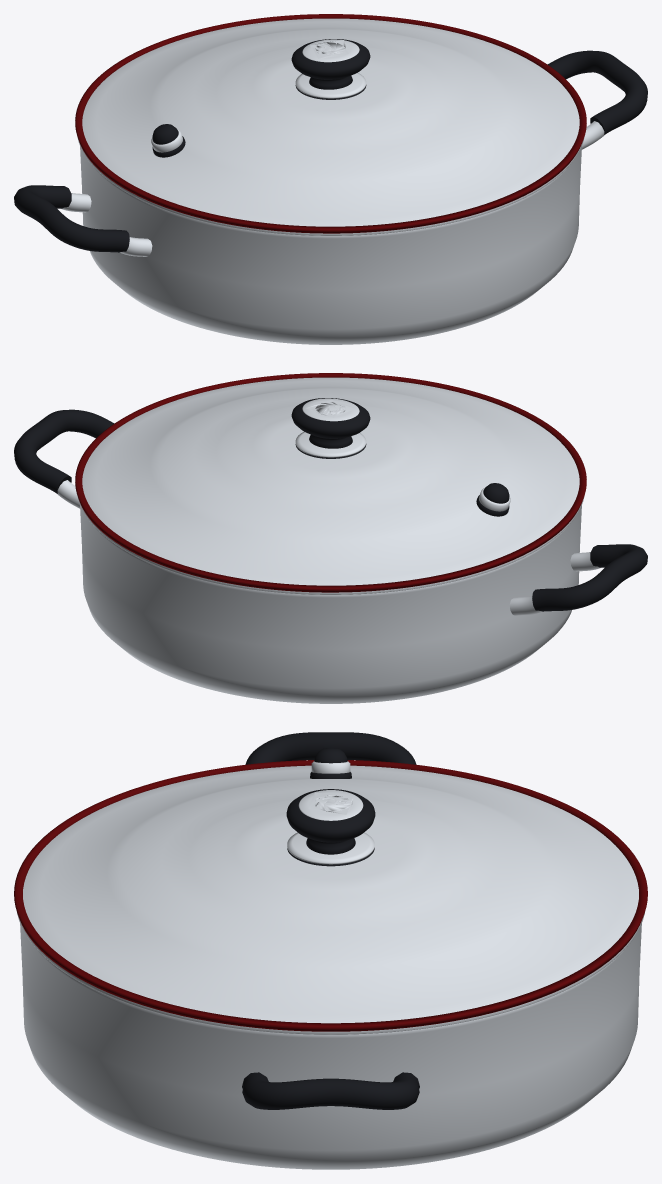
File: olla-paellera-14-pulgadas.glb
The picture shows the model from 3 angles, top to bottom: view 1: azimuth 30°, elevation 25°; view 2: azimuth 150°, elevation 25°; view 3: azimuth 270°, elevation 25°; orthographic projection. The views are drawn at different scales.
Visible parts, largest first — view 1: Tapa de acero con aros, Cuerpo con interior, Aro rojo de la tapa, Asa negra -1, Asa negra 1, NOVEL · Pomo cerrado redondeado, NOVEL · Base cromada del pomo, NOVEL · Placa superior del pomo, NOVEL · Emblema original en relieve bajo; view 2: Tapa de acero con aros, Cuerpo con interior, Aro rojo de la tapa, Asa negra -1, Asa negra 1, NOVEL · Pomo cerrado redondeado, NOVEL · Base cromada del pomo, NOVEL · Placa superior del pomo, NOVEL · Emblema original en relieve bajo; view 3: Tapa de acero con aros, Cuerpo con interior, Aro rojo de la tapa, Asa negra 1, Asa negra -1, NOVEL · Pomo cerrado redondeado, NOVEL · Base cromada del pomo, NOVEL · Placa superior del pomo, NOVEL · Emblema original en relieve bajo.
Boxes of the visible parts, <box> form: Tapa de acero con aros: <box>77,18,584,235</box>; Cuerpo con interior: <box>80,146,581,344</box>; Aro rojo de la tapa: <box>75,14,586,233</box>; Asa negra -1: <box>14,185,129,252</box>; Asa negra 1: <box>547,50,647,134</box>; NOVEL · Pomo cerrado redondeado: <box>291,39,370,89</box>; NOVEL · Base cromada del pomo: <box>295,72,366,98</box>; NOVEL · Placa superior del pomo: <box>302,39,359,62</box>; NOVEL · Emblema original en relieve bajo: <box>310,40,348,58</box>; Tapa de acero con aros: <box>77,377,584,594</box>; Cuerpo con interior: <box>80,505,581,703</box>; Aro rojo de la tapa: <box>75,373,586,592</box>; Asa negra -1: <box>532,544,647,611</box>; Asa negra 1: <box>14,409,114,493</box>; NOVEL · Pomo cerrado redondeado: <box>291,398,370,448</box>; NOVEL · Base cromada del pomo: <box>295,431,366,457</box>; NOVEL · Placa superior del pomo: <box>302,398,359,421</box>; NOVEL · Emblema original en relieve bajo: <box>306,399,355,417</box>; Tapa de acero con aros: <box>17,765,644,1034</box>; Cuerpo con interior: <box>20,923,641,1169</box>; Aro rojo de la tapa: <box>14,760,647,1031</box>; Asa negra 1: <box>242,1072,419,1109</box>; Asa negra -1: <box>245,732,416,764</box>; NOVEL · Pomo cerrado redondeado: <box>286,789,375,854</box>; NOVEL · Base cromada del pomo: <box>287,832,374,864</box>; NOVEL · Placa superior del pomo: <box>298,790,363,820</box>; NOVEL · Emblema original en relieve bajo: <box>308,792,353,814</box>.
Size of the model in its own units: 0.4847 by 0.1582 by 0.362.
